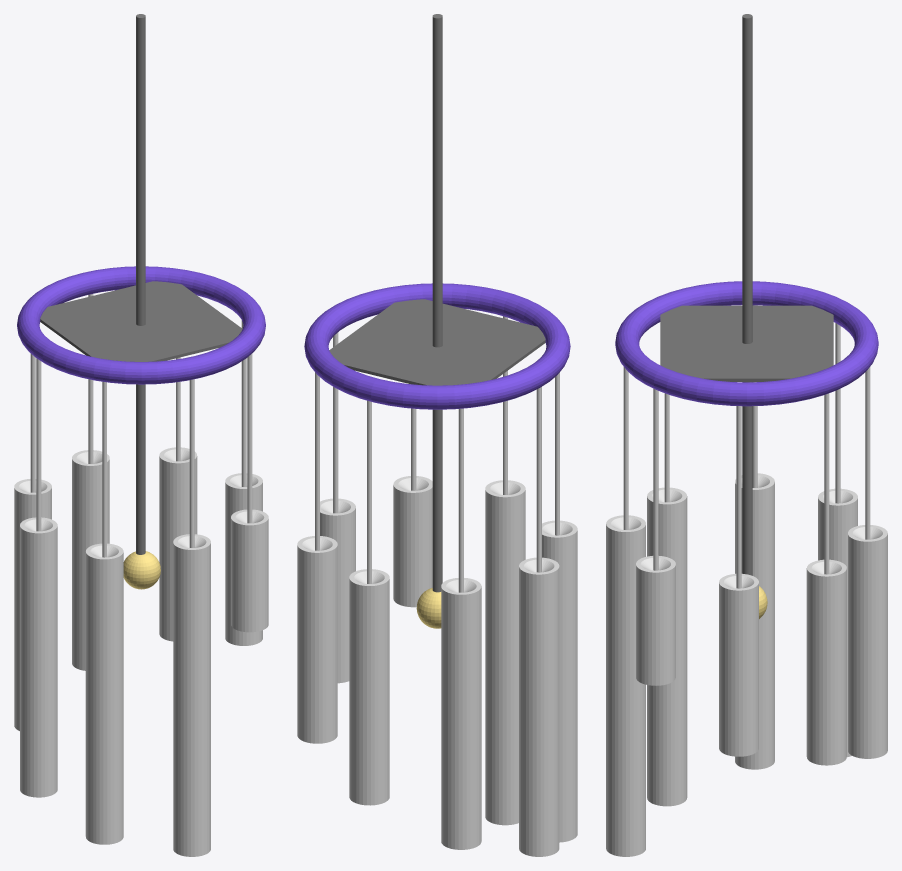
File: chime.fbx
The picture shows the model from 3 angles, left to right: view 1: azimuth 30°, elevation 25°; view 2: azimuth 150°, elevation 25°; view 3: azimuth 270°, elevation 25°; orthographic projection. The views are drawn at different scales.
Visible parts, largest first — view 1: Cylinder.007, Cylinder, Torus, Cylinder.001, Cube, Cylinder.006, Cylinder.003, Cylinder.004, Cylinder.008, Cylinder.002, Cylinder.005, Sphere; view 2: Torus, Cylinder.001, Cylinder.007, Cube, Cylinder.002, Cylinder.003, Cylinder.004, Cylinder, Cylinder.008, Cylinder.006, Cylinder.005, Sphere; view 3: Cylinder.007, Torus, Cube, Cylinder.003, Cylinder, Cylinder.004, Cylinder.005, Cylinder.001, Cylinder.006, Cylinder.008, Cylinder.002.
Boxes of the visible parts, left/top/right/bottom form: Cylinder.007: left=173, top=379, right=210, bottom=856; Cylinder: left=85, top=381, right=123, bottom=844; Torus: left=17, top=266, right=265, bottom=384; Cylinder.001: left=20, top=358, right=57, bottom=797; Cube: left=40, top=281, right=242, bottom=361; Cylinder.006: left=231, top=353, right=268, bottom=632; Cylinder.003: left=72, top=294, right=109, bottom=670; Cylinder.004: left=159, top=357, right=197, bottom=641; Cylinder.008: left=136, top=14, right=145, bottom=554; Cylinder.002: left=14, top=353, right=51, bottom=730; Cylinder.005: left=225, top=320, right=262, bottom=645; Sphere: left=123, top=551, right=160, bottom=589; Torus: left=304, top=283, right=570, bottom=409; Cylinder.001: left=519, top=387, right=559, bottom=856; Cylinder.007: left=485, top=316, right=525, bottom=825; Cube: left=329, top=299, right=545, bottom=385; Cylinder.002: left=441, top=408, right=481, bottom=849; Cylinder.003: left=349, top=400, right=389, bottom=805; Cylinder.004: left=297, top=372, right=337, bottom=743; Cylinder: left=542, top=372, right=577, bottom=842; Cylinder.008: left=432, top=14, right=442, bottom=592; Cylinder.006: left=393, top=408, right=432, bottom=607; Cylinder.005: left=320, top=332, right=355, bottom=683; Sphere: left=416, top=588, right=441, bottom=628; Cylinder.007: left=606, top=367, right=645, bottom=856; Torus: left=615, top=281, right=878, bottom=406; Cube: left=660, top=305, right=833, bottom=381; Cylinder.003: left=848, top=367, right=887, bottom=758; Cylinder: left=647, top=393, right=687, bottom=806; Cylinder.004: left=806, top=393, right=846, bottom=765; Cylinder.005: left=719, top=406, right=758, bottom=756; Cylinder.001: left=735, top=305, right=774, bottom=769; Cylinder.006: left=636, top=388, right=675, bottom=685; Cylinder.008: left=742, top=14, right=752, bottom=575; Cylinder.002: left=818, top=323, right=857, bottom=757.
Size of the model in its own units: 235 by 769 by 235.
